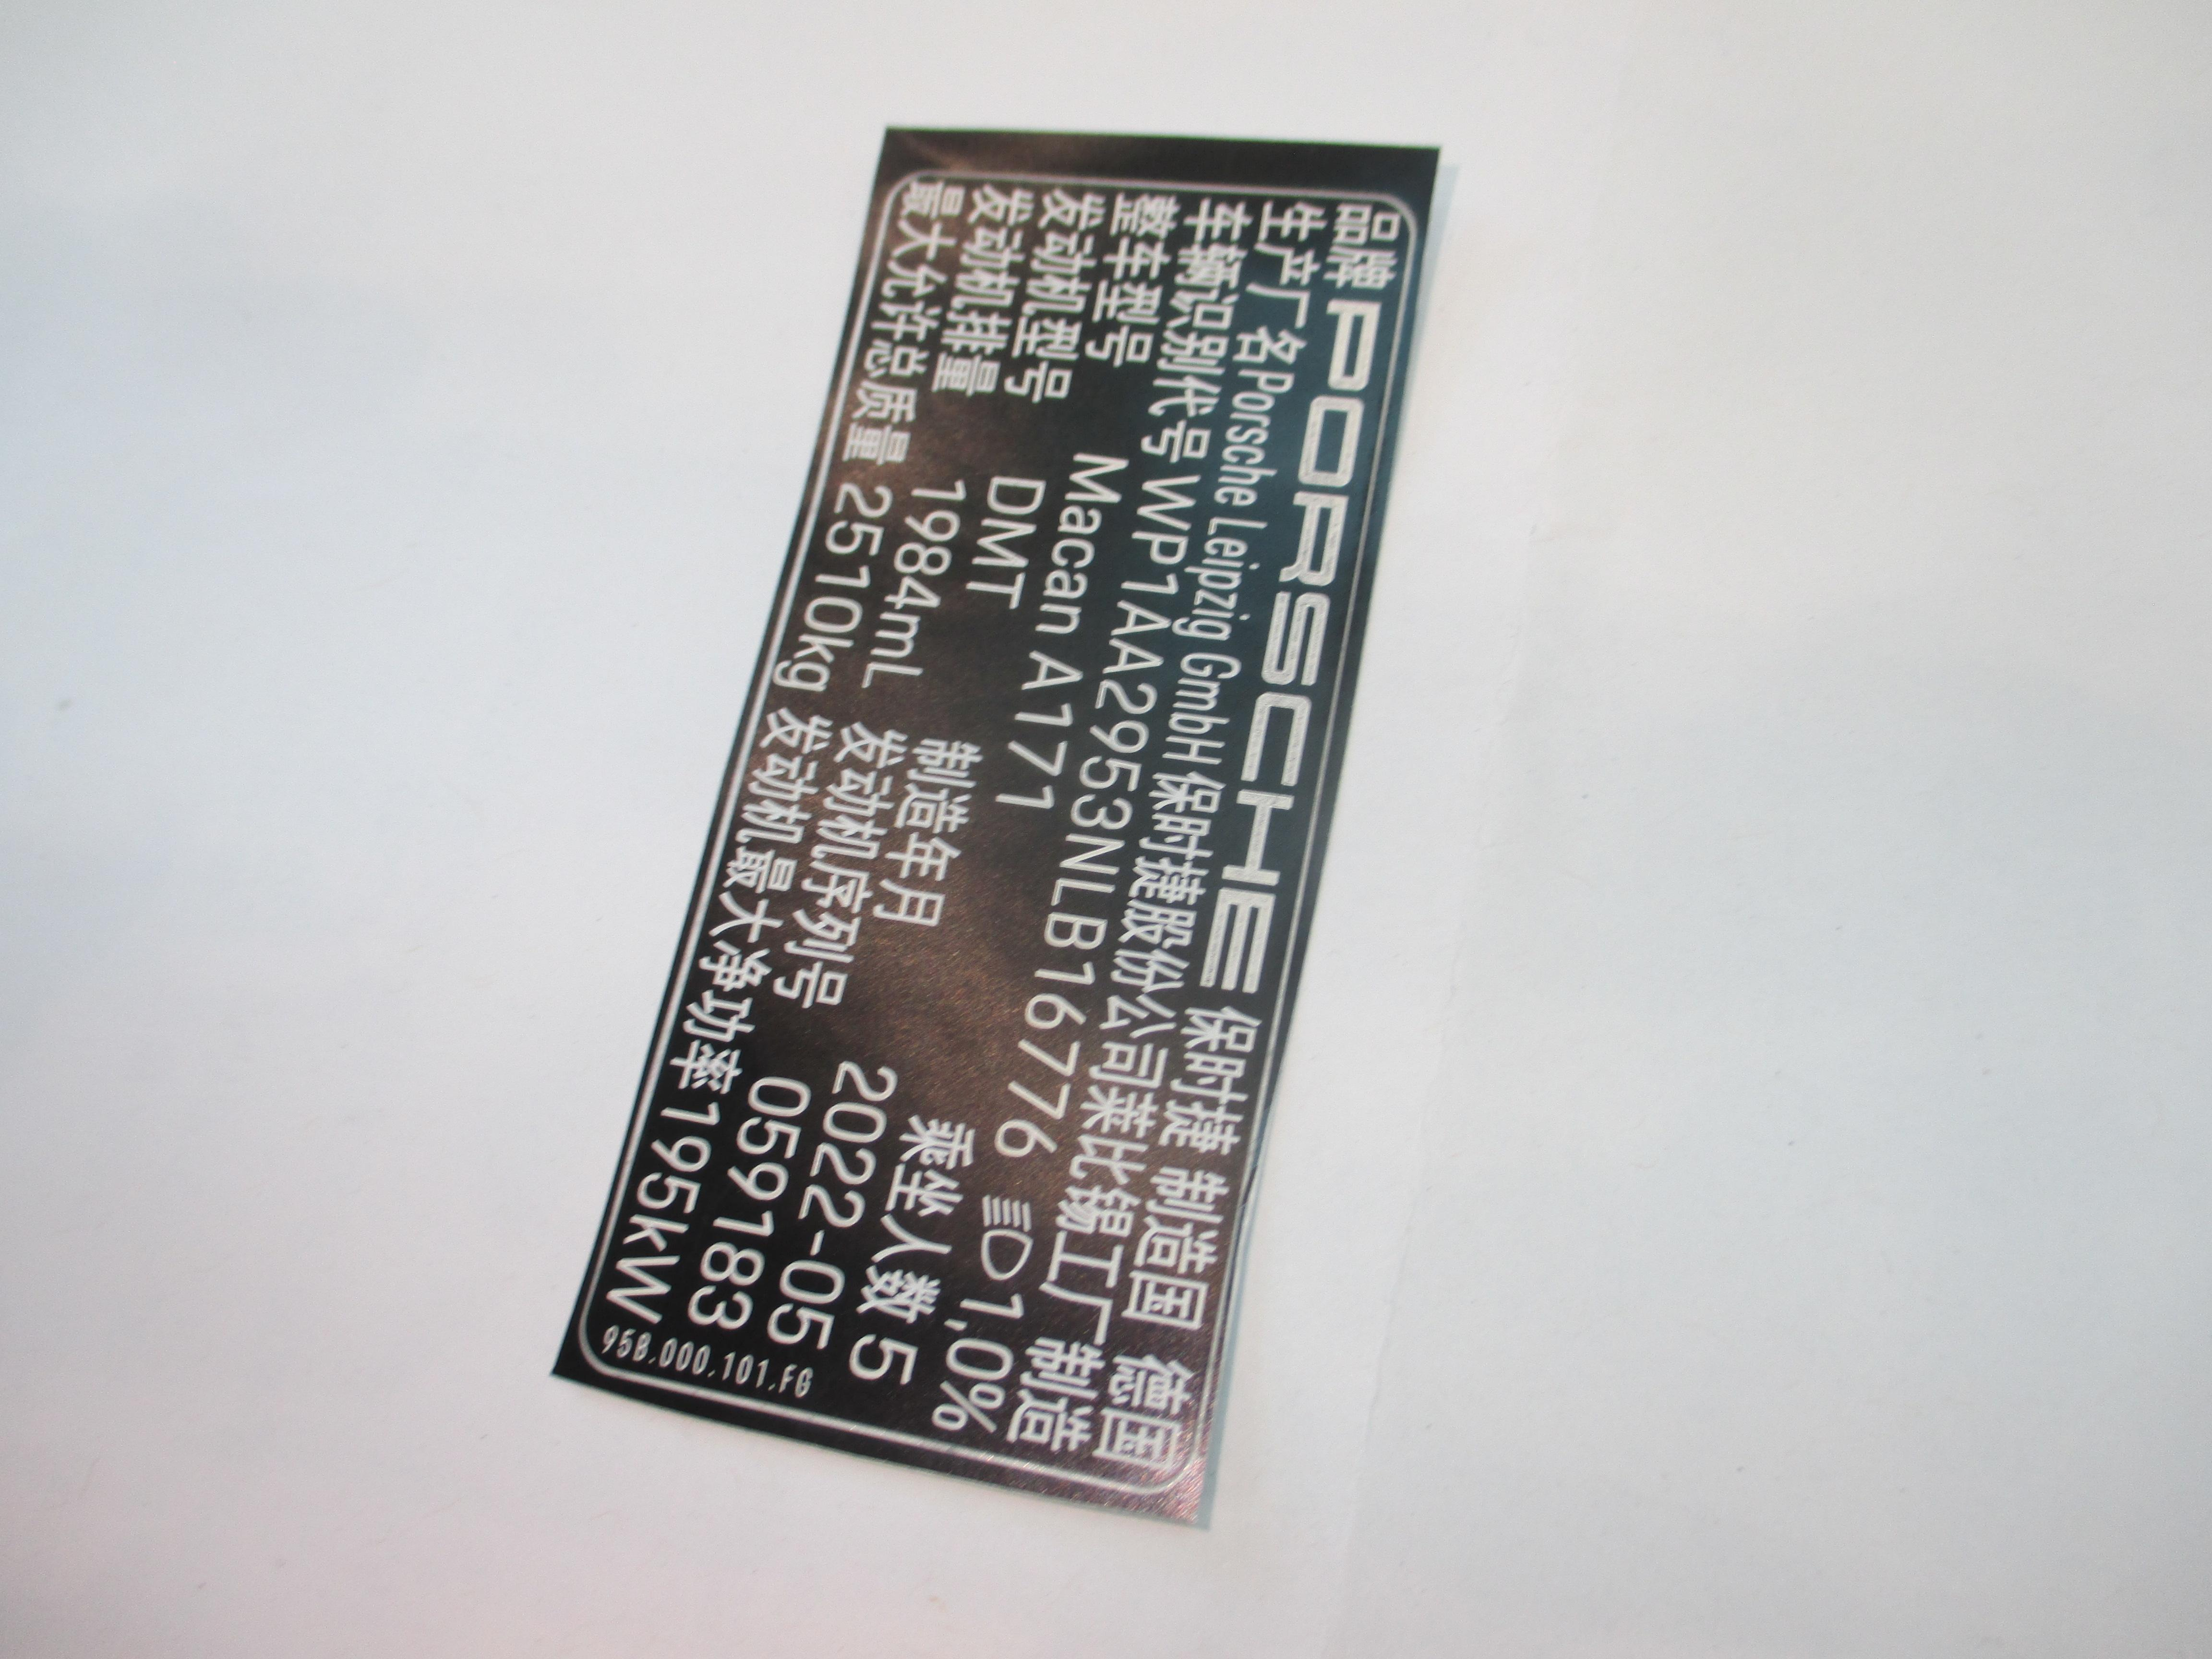Sign: (582, 173, 1411, 1492)
